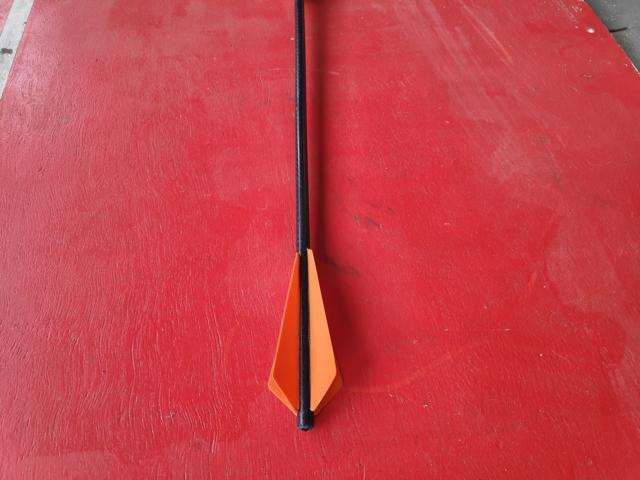Tail: (264, 248, 346, 433)
